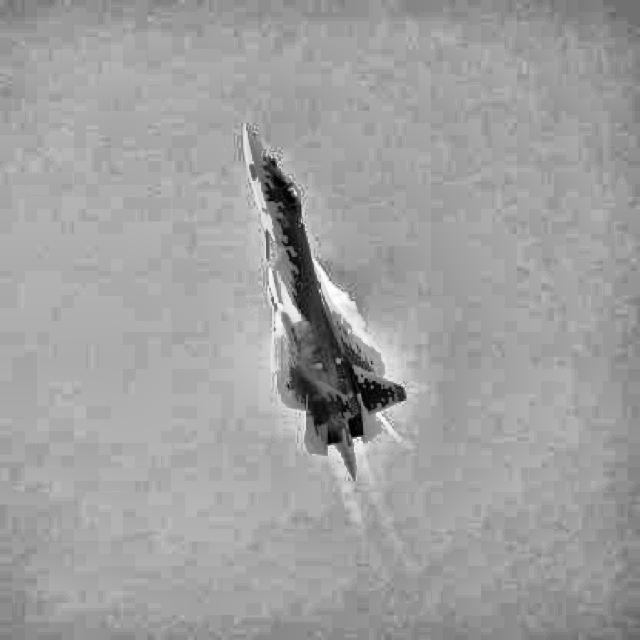Su57: (242, 122, 407, 480)
